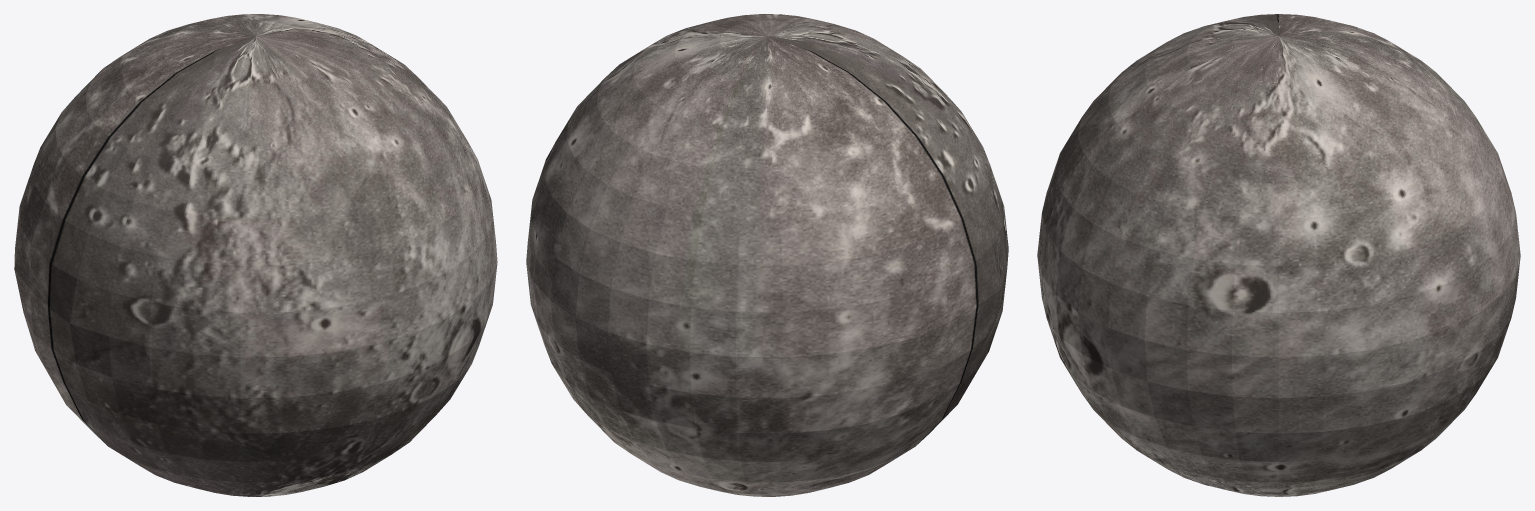
The model's file is Luna.obj.
The picture shows the model from 3 angles, left to right: view 1: azimuth 30°, elevation 25°; view 2: azimuth 150°, elevation 25°; view 3: azimuth 270°, elevation 25°; orthographic projection.
Visible parts, largest first — view 1: Esfera; view 2: Esfera; view 3: Esfera.
Part boxes in pixels (x1,y1,x2,y2): Esfera: [14, 14, 497, 496]; Esfera: [526, 14, 1008, 496]; Esfera: [1037, 14, 1520, 496].
Bounding box in the file's own units: 2 × 2 × 2.
1 material, 1 textured.
